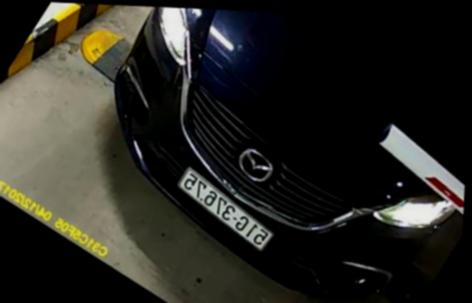License_Plate: (176, 169, 281, 251)
